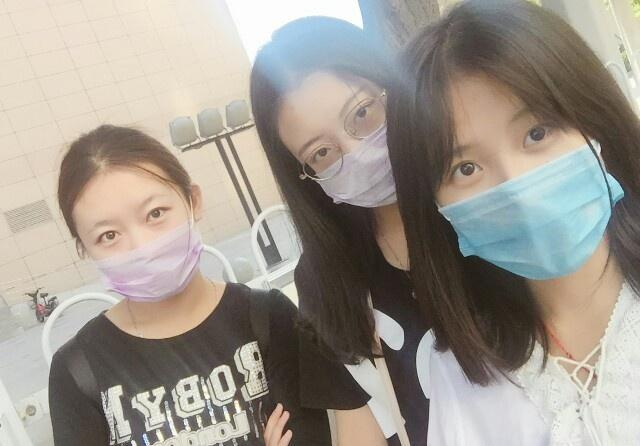OK: (432, 103, 611, 282), (290, 84, 416, 210), (86, 193, 193, 300)
